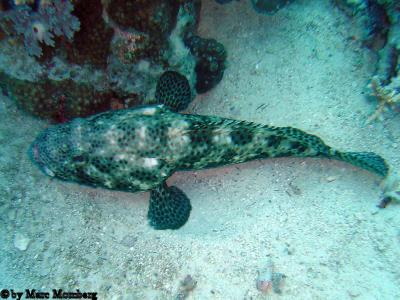Serranidae -Groupers-: (24, 65, 392, 232)
